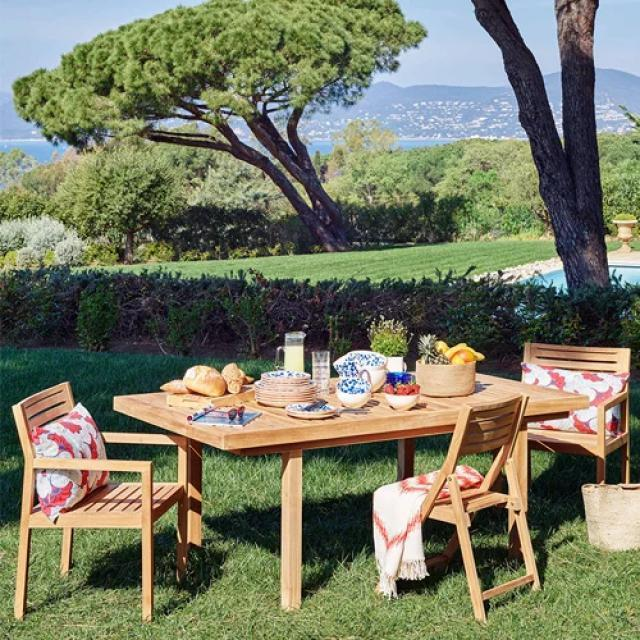table: (101, 358, 600, 479)
